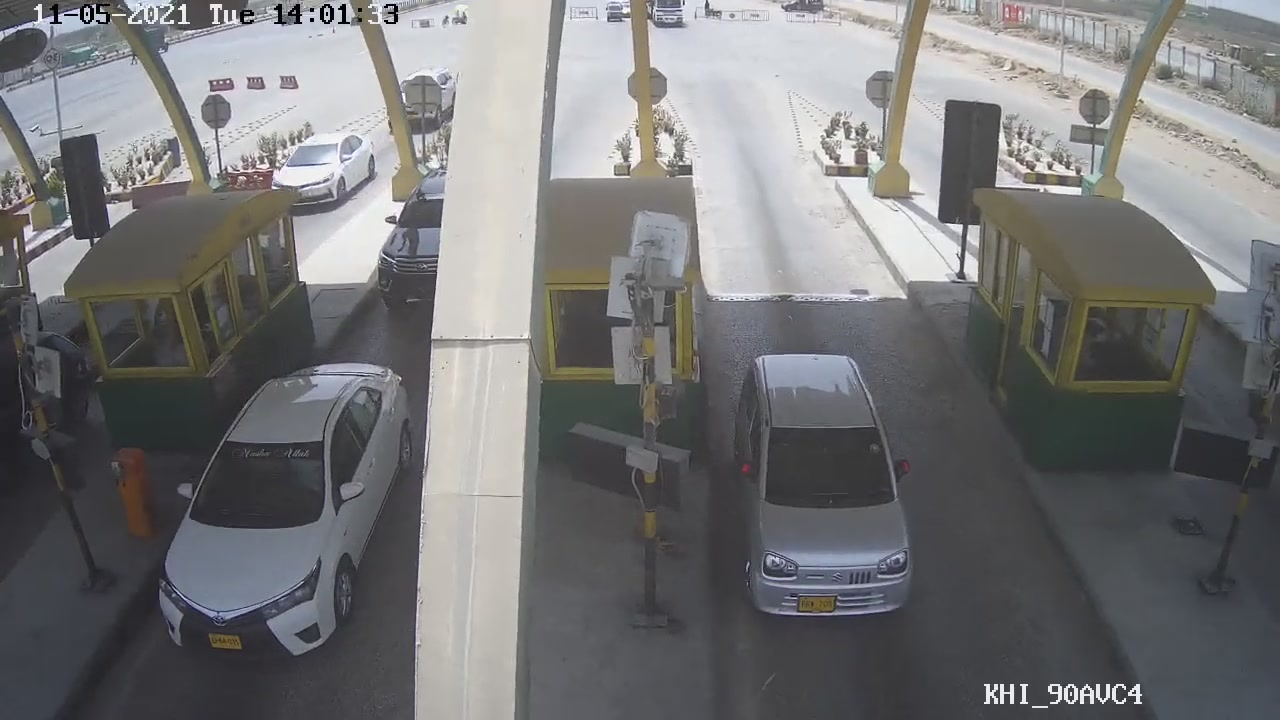F1: (731, 343, 921, 623)
